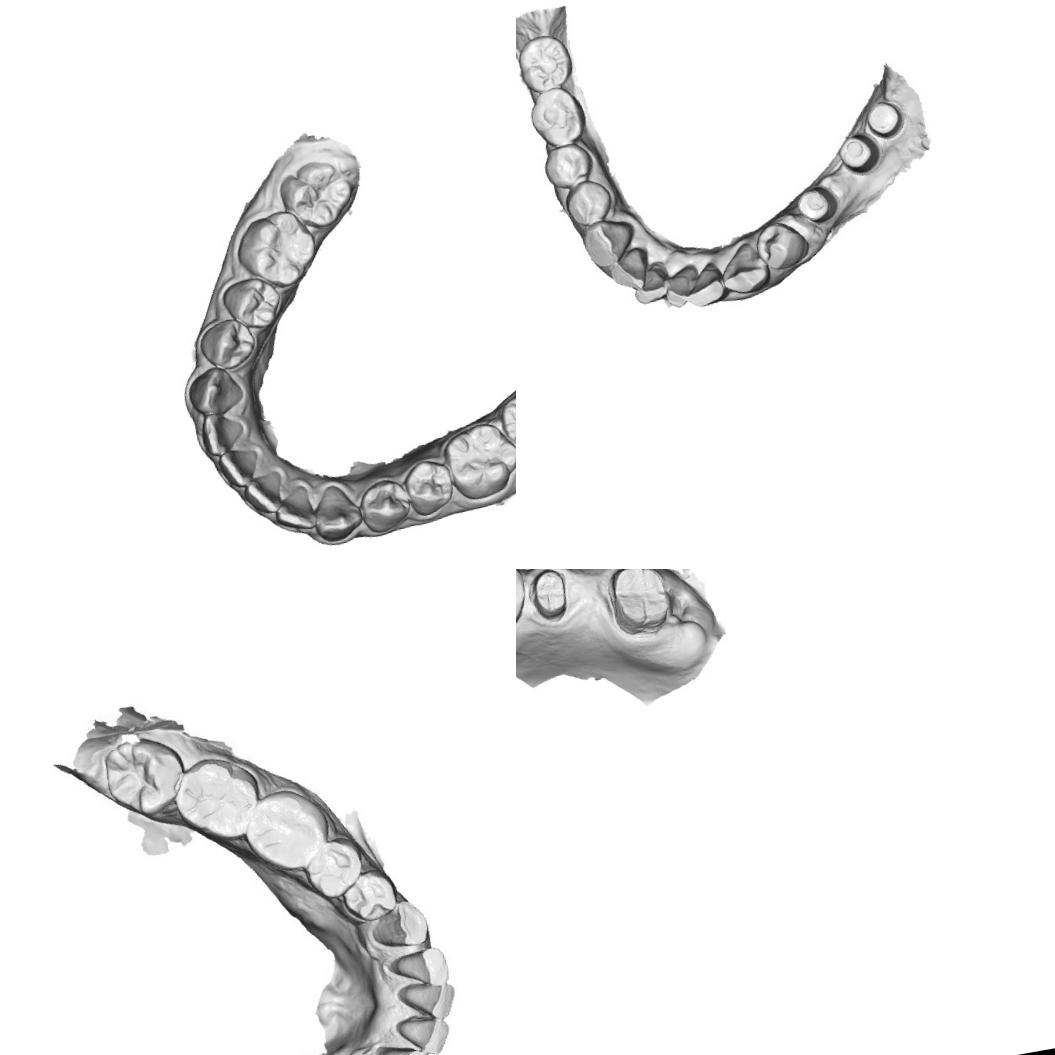abutment: (834, 129, 883, 177), (792, 181, 841, 227), (862, 96, 907, 141)
canine: (307, 480, 365, 544), (369, 894, 434, 951), (184, 362, 247, 420), (715, 238, 774, 298), (577, 214, 638, 270)
crown: (606, 569, 674, 638), (526, 569, 574, 621)
incisor: (398, 977, 457, 1028), (196, 407, 250, 460), (392, 941, 450, 990), (269, 482, 318, 534), (395, 1010, 451, 1055), (240, 468, 288, 518), (682, 258, 727, 308), (215, 444, 263, 490), (606, 244, 650, 294), (660, 264, 702, 310), (629, 264, 672, 307), (380, 1036, 434, 1055)
molar: (97, 725, 187, 818), (229, 205, 322, 294), (244, 784, 329, 873), (176, 755, 258, 843), (436, 417, 516, 504), (274, 154, 359, 234), (525, 82, 590, 151), (516, 30, 576, 95), (494, 378, 516, 464)
premolar: (218, 272, 285, 334), (195, 313, 260, 374), (356, 475, 414, 538), (750, 216, 812, 274), (400, 456, 456, 518), (539, 140, 597, 192), (560, 176, 616, 229), (307, 839, 360, 895), (340, 866, 394, 920)
